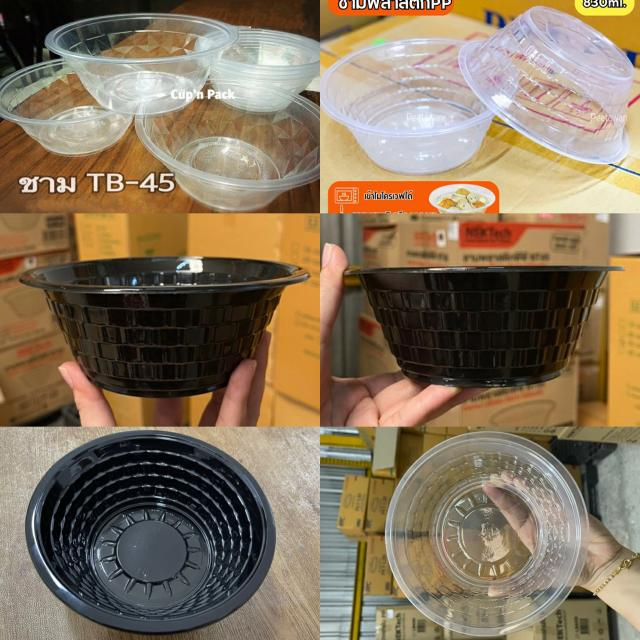Single-Use-Plastic: (26, 430, 275, 632), (385, 431, 589, 636), (20, 256, 309, 398), (347, 266, 621, 388), (459, 6, 634, 163), (135, 80, 319, 212), (320, 38, 493, 174), (45, 14, 238, 114), (0, 59, 131, 156), (210, 28, 320, 112)
